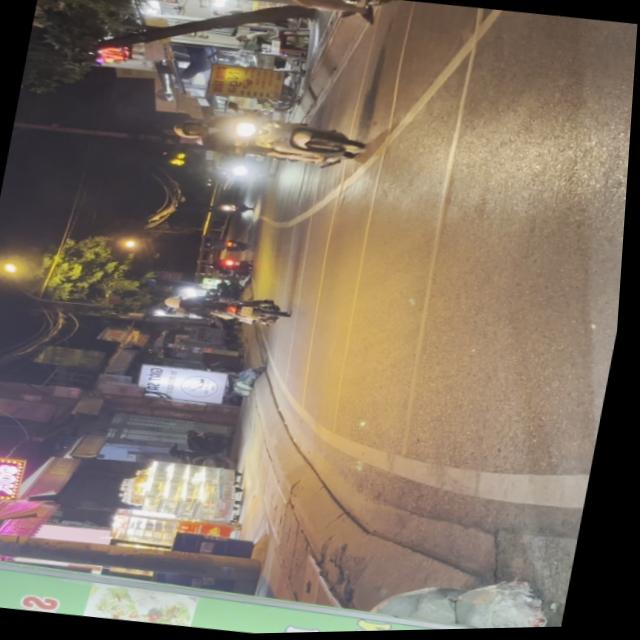licenseplate: (169, 102, 374, 177), (162, 0, 427, 30)
